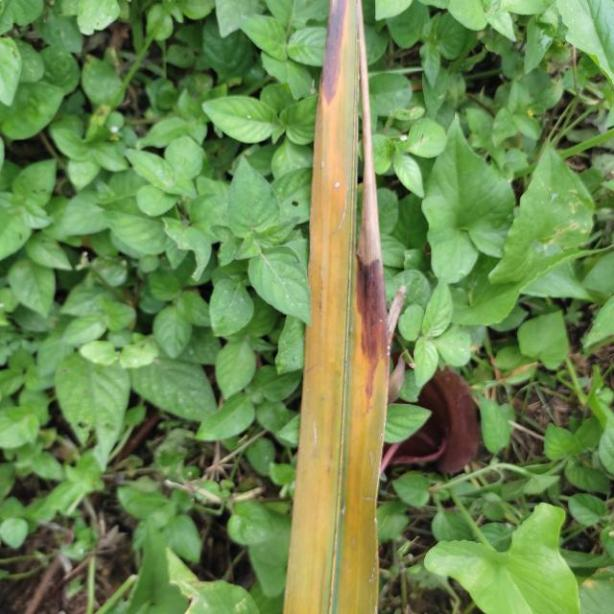Megnesium: (281, 0, 408, 614)
